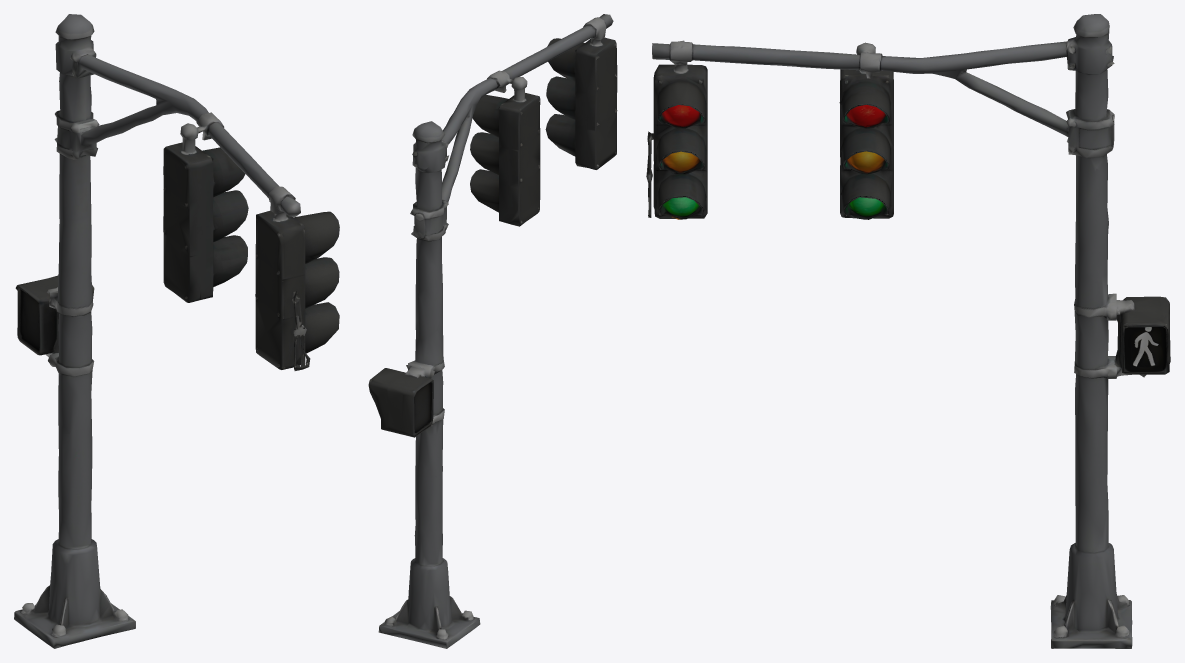
File: traffic_light.glb
The picture shows the model from 3 angles, left to right: view 1: azimuth 30°, elevation 25°; view 2: azimuth 150°, elevation 25°; view 3: azimuth 270°, elevation 25°; orthographic projection. The views are drawn at different scales.
Parts seen in each view (by area): view 1: tripo_node_e14efc7d-ba64-4328-9c3f-49ddfc0199d4; view 2: tripo_node_e14efc7d-ba64-4328-9c3f-49ddfc0199d4; view 3: tripo_node_e14efc7d-ba64-4328-9c3f-49ddfc0199d4.
Boxes of the visible parts, box(x1,y1,x2,y2) form: tripo_node_e14efc7d-ba64-4328-9c3f-49ddfc0199d4: box(14, 14, 339, 648); tripo_node_e14efc7d-ba64-4328-9c3f-49ddfc0199d4: box(368, 14, 617, 648); tripo_node_e14efc7d-ba64-4328-9c3f-49ddfc0199d4: box(646, 14, 1170, 648).
Bounding box in the file's own units: 0.1665 × 1 × 0.7737.
Materials: 1 (1 with a texture image).
